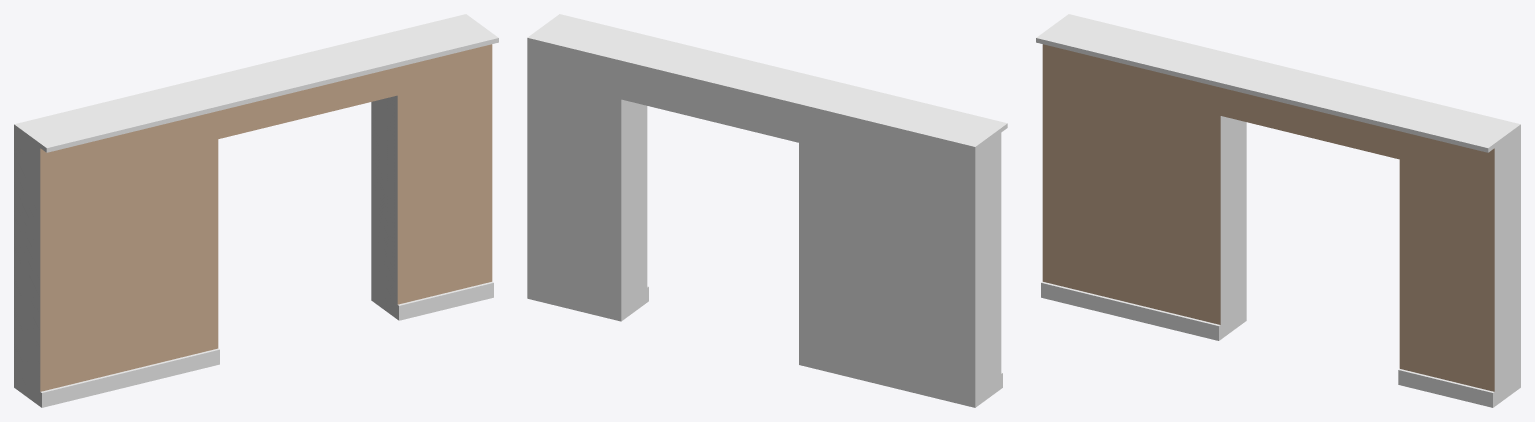
Rendered from Wall 4.FBX.
3 views of the same model, side by side, from view 1: azimuth 30°, elevation 25°; view 2: azimuth 150°, elevation 25°; view 3: azimuth 330°, elevation 25° (orthographic).
Visible parts, largest first — view 1: wall 4; view 2: wall 4; view 3: wall 4.
Part boxes in pixels (box(x1,y1,x2,y2)): wall 4: box(14, 14, 498, 407); wall 4: box(527, 14, 1007, 407); wall 4: box(1036, 14, 1520, 407).
Size of the model in its own units: 221 by 27.72 by 123.
